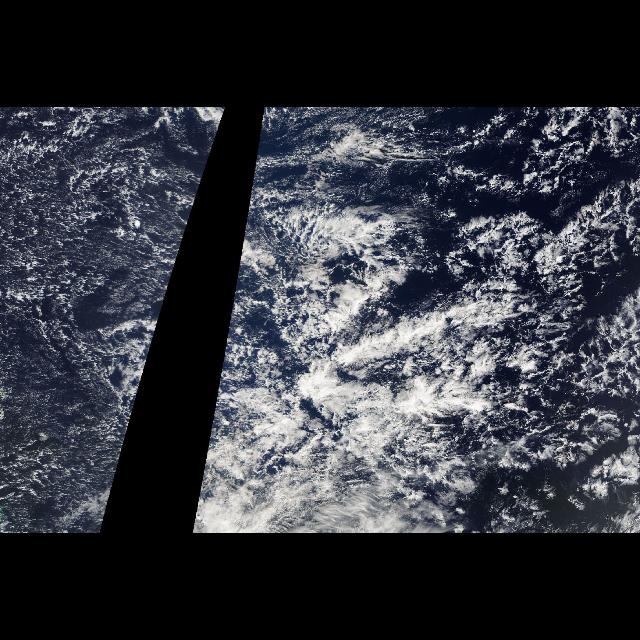Fish: (190, 185, 542, 533)
Gravel: (419, 108, 639, 532), (1, 107, 200, 533)
Sugar: (264, 108, 496, 178)
